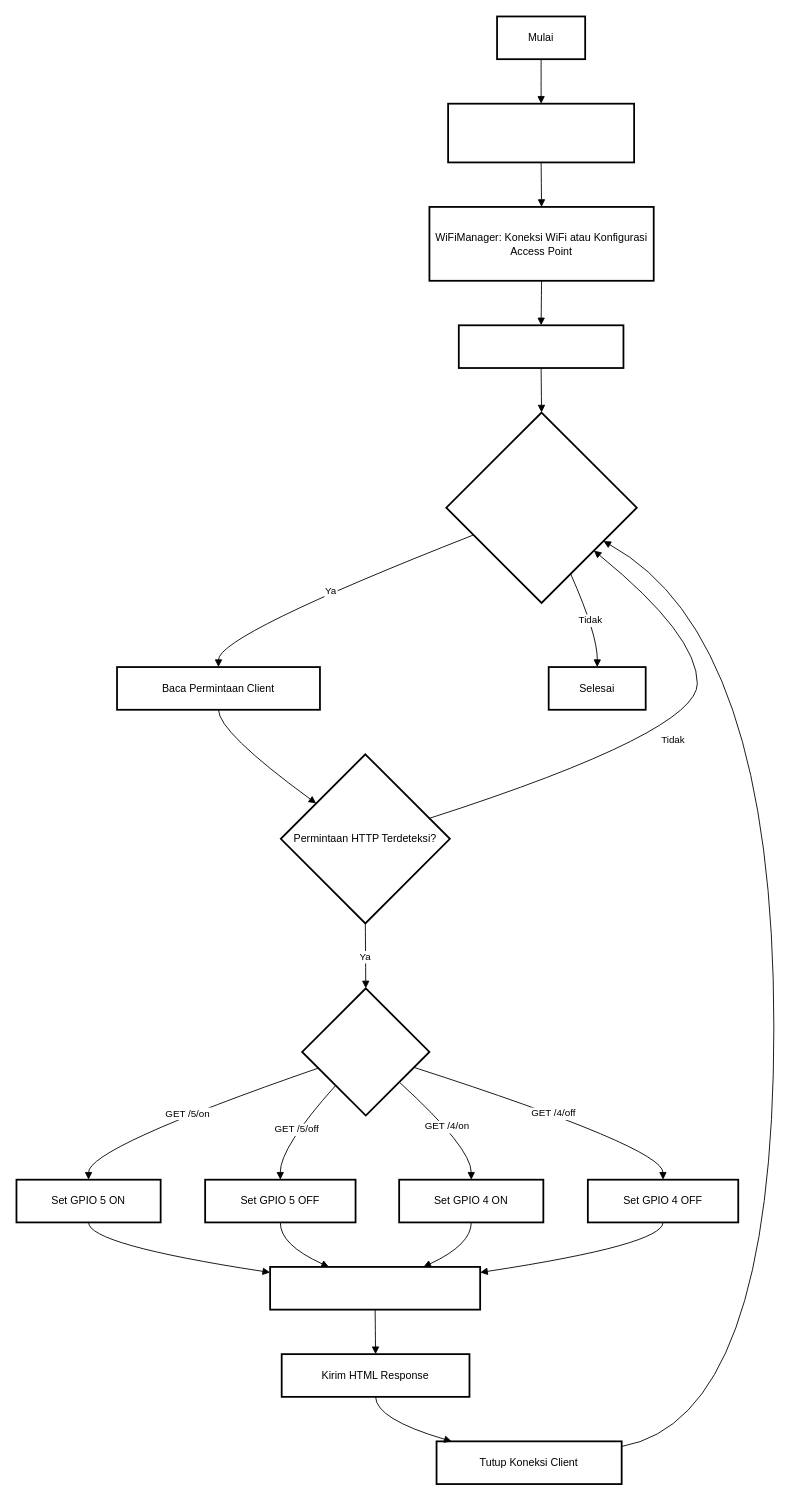
The diagram is 789 pixels wide and 1500 high, and some of its shapes have lost their labels. The shapes that lost their labels are listed below. From the top down, each one's centre as x and y in pixels, then its label:
point 541,132: Inisialisasi Serial dan Output GPIO
point 540,346: Mulai Web Server
point 541,507: Client Baru Terkoneksi?
point 365,1051: Request URL?
point 375,1288: Tampilkan Halaman Web
